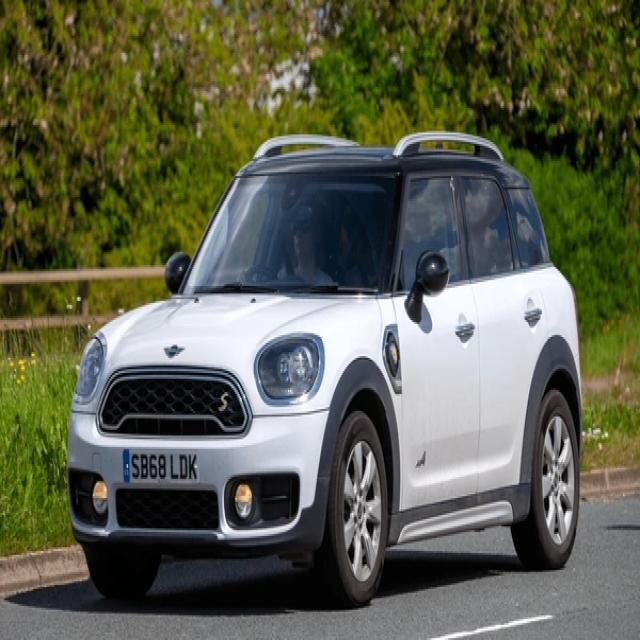mini: (162, 338, 186, 364)
